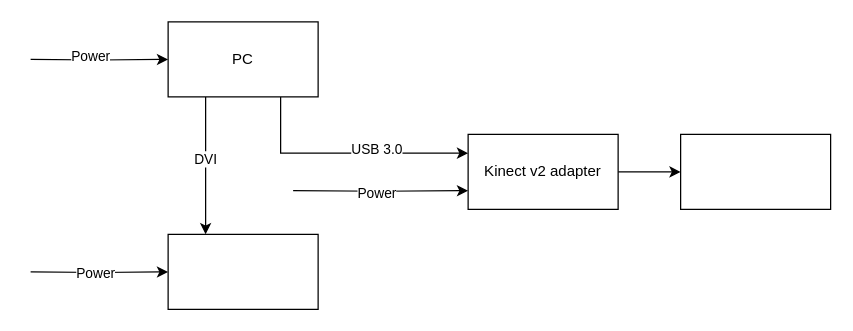
The diagram is 853 pixels wide and 331 high, and some of its shapes have lost their labels. The centre of each missing label's shape, as x and y in pixels:
Beamer: the point at 242,271
Kinect v2: the point at 755,171
